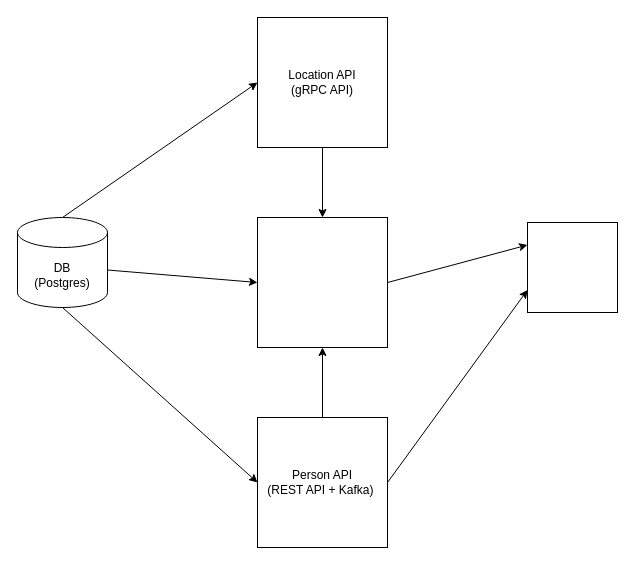
Some shapes in this 635 by 565 pixel diagram are drawn without their labels. The shapes that lost their labels are listed below. From the top down, each one's box as (x1, y1, x2, y2) in pixels, then its label:
(256, 216, 388, 348): Connection API (REST API)
(526, 222, 618, 312): React App
